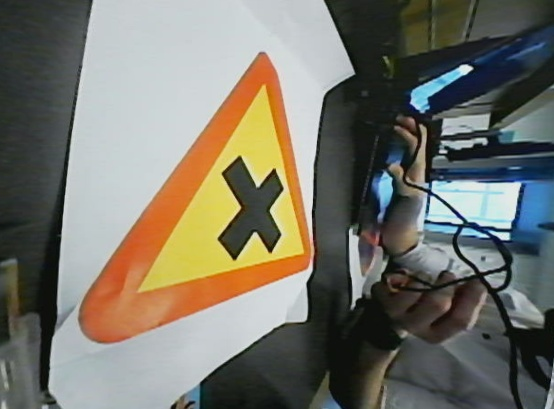junction: (74, 42, 316, 350)
